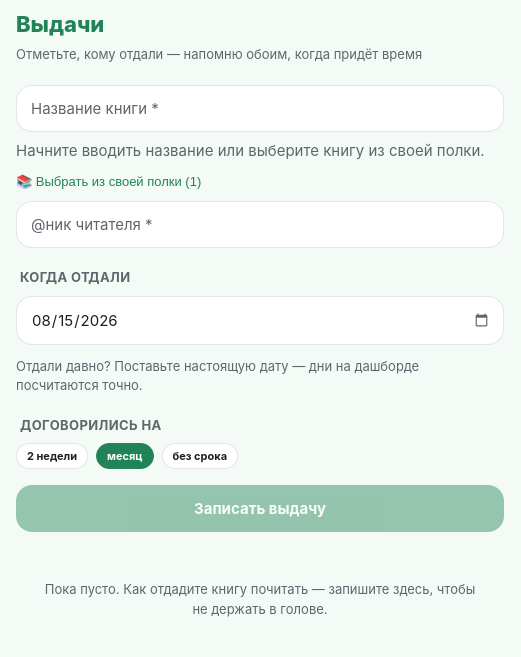
подсказка с полки в форме выдачи › выданную книгу не предлагаем, но объясняем почему её нет в списке
Type "мастер" into the field with placeholder "Название книги *" at point(260, 108), box 16,84 -> 504,132
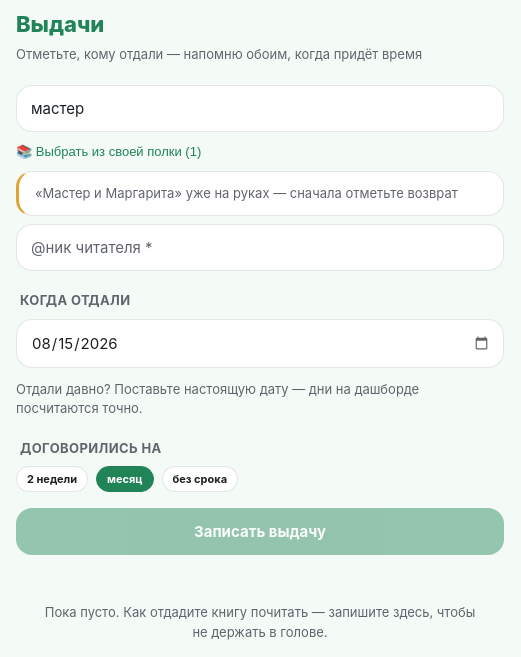
Now the text "«Мастер и Маргарита» уже на руках — сначала отметьте возврат" is shown, box 35,184 -> 487,203
